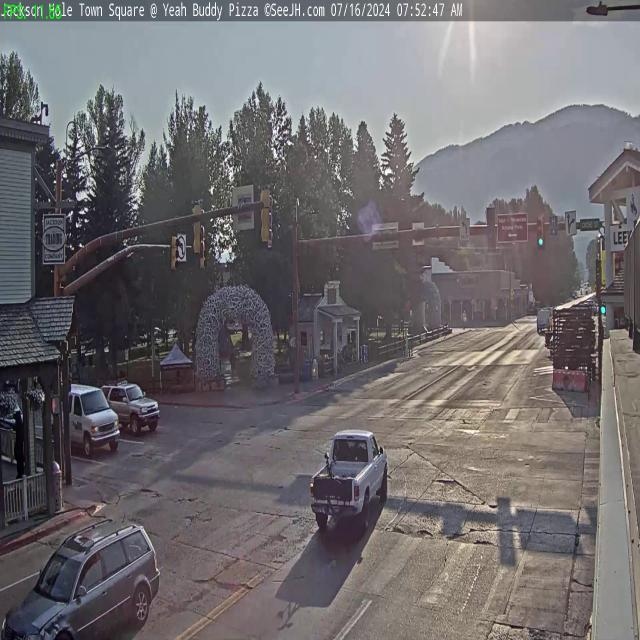person: (13, 411, 24, 483)
pickup: (310, 429, 388, 530)
suv: (2, 518, 164, 639), (103, 382, 160, 436)
traffic light: (260, 185, 272, 245), (191, 199, 203, 256), (486, 207, 497, 252), (171, 233, 179, 272), (538, 214, 546, 248)
van: (52, 376, 118, 461)
